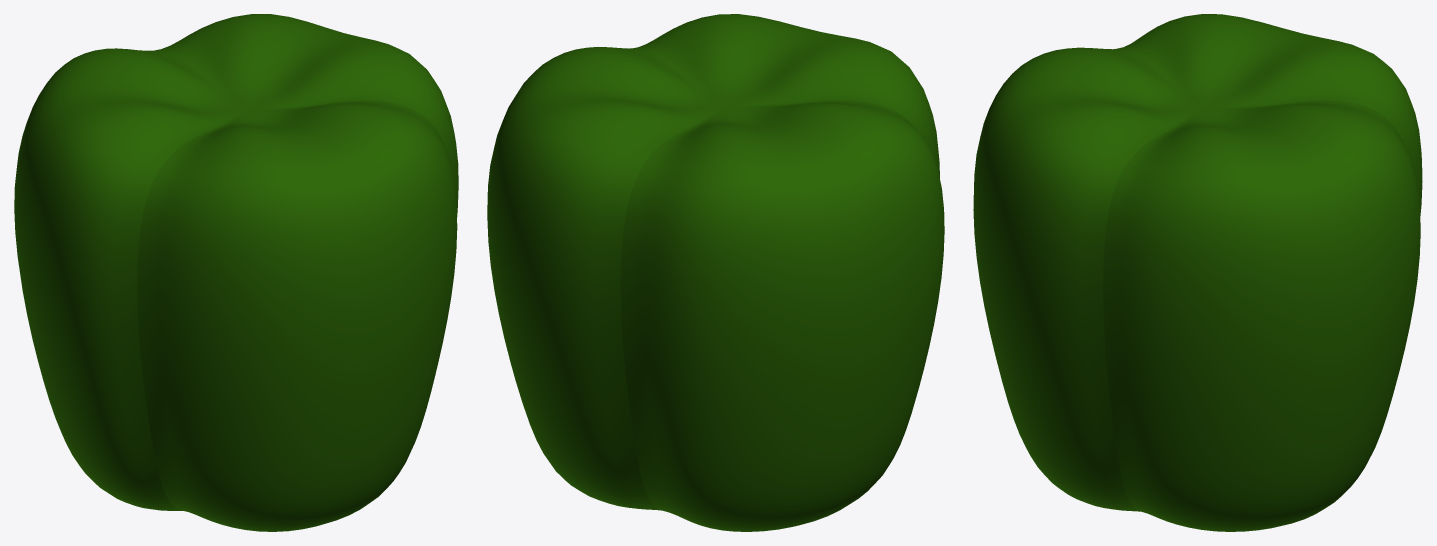
The model's file is green_pepper 1.fbx.
3 views of the same model, side by side, from view 1: azimuth 30°, elevation 25°; view 2: azimuth 150°, elevation 25°; view 3: azimuth 270°, elevation 25° (orthographic).
Visible parts, largest first — view 1: greenPepper; view 2: greenPepper; view 3: greenPepper.
Part boxes in pixels (box(x1,y1,x2,y2)): greenPepper: box(14, 14, 458, 531); greenPepper: box(487, 14, 944, 531); greenPepper: box(973, 14, 1422, 531).
Size of the model in its own units: 232 by 223 by 226.
